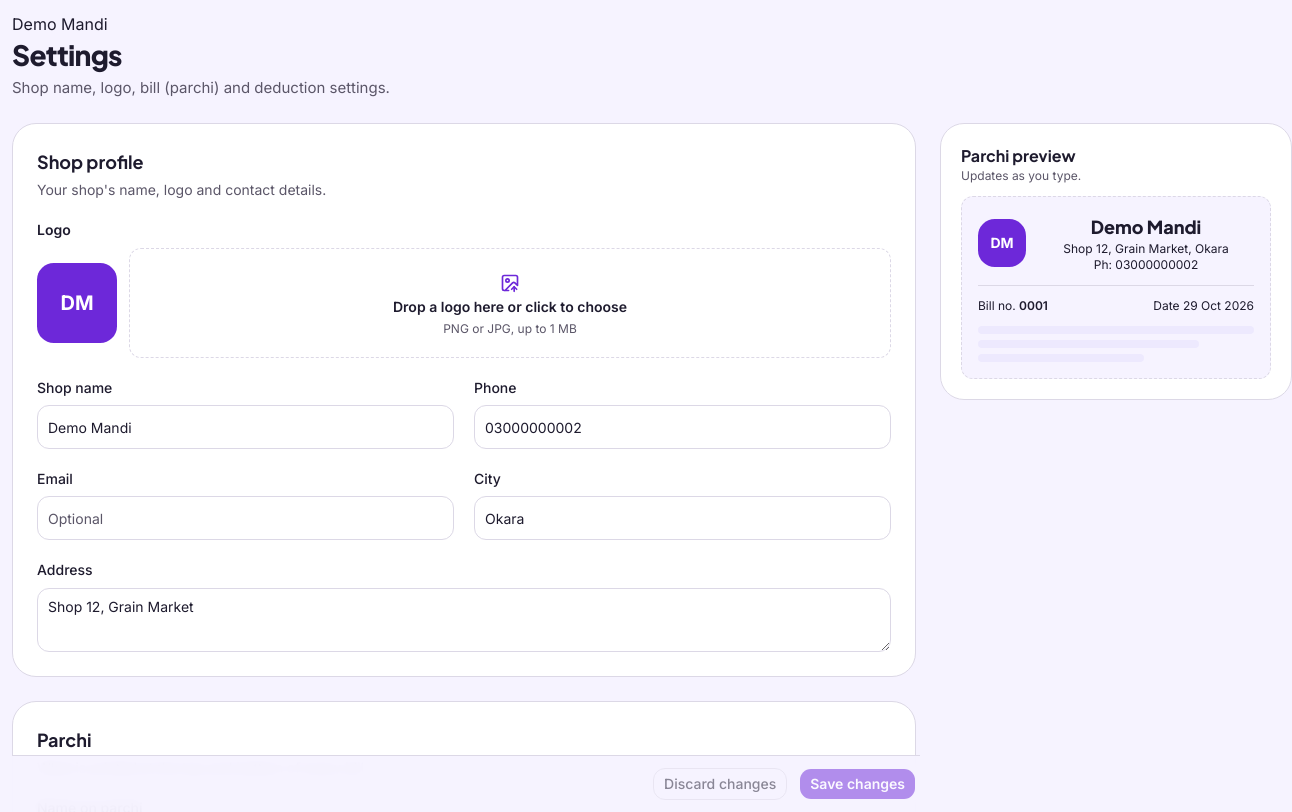
SettingsForm › saving › refetches /auth/me after a save, so the header shows the new name
The image size is (1292, 812).
Check: the text with test id "header-shop" reads "Demo Mandi", box x1=12 y1=14 x2=108 y2=34
Replace the text in the field labelled "Shop name" with "Aslam & Sons". click: [246, 427]
box: x1=37 y1=405 x2=454 y2=449
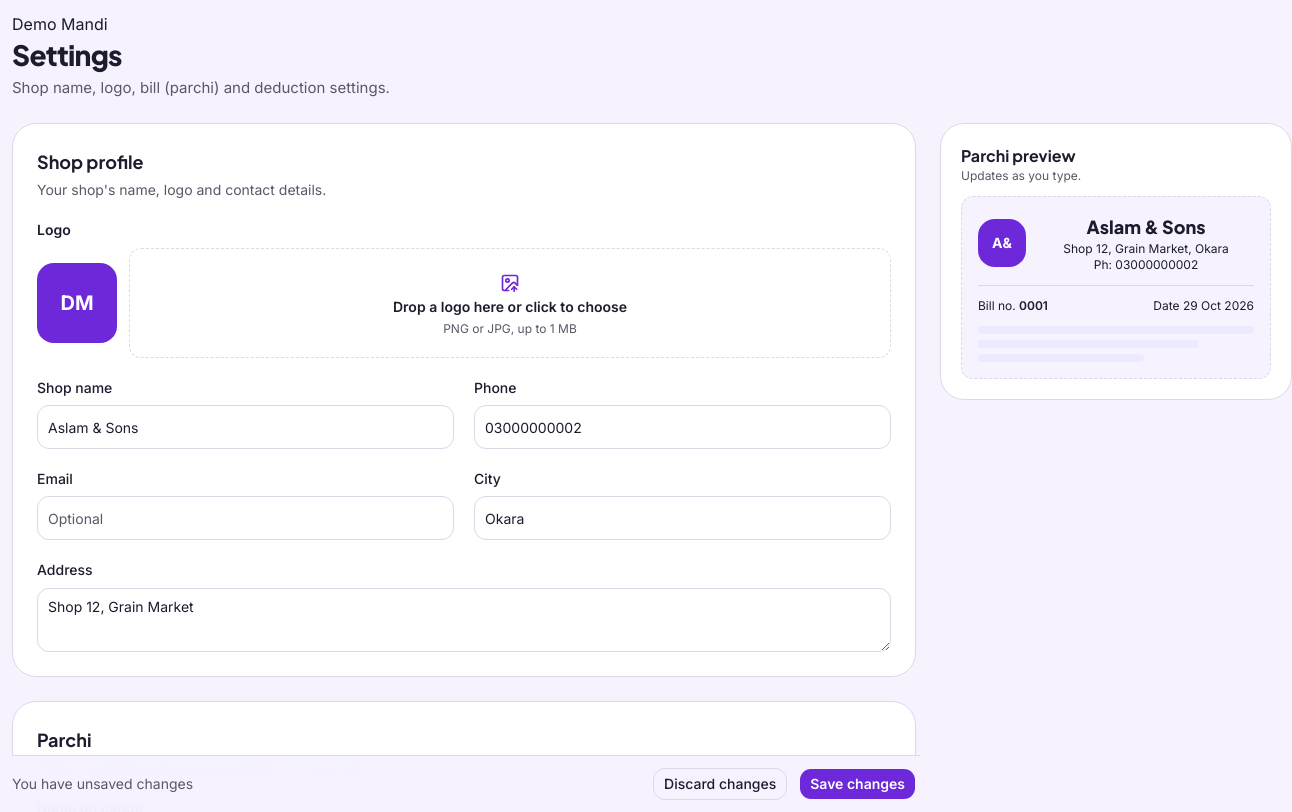
Click the button "Save changes". click: [858, 784]
box: x1=799 y1=768 x2=916 y2=800
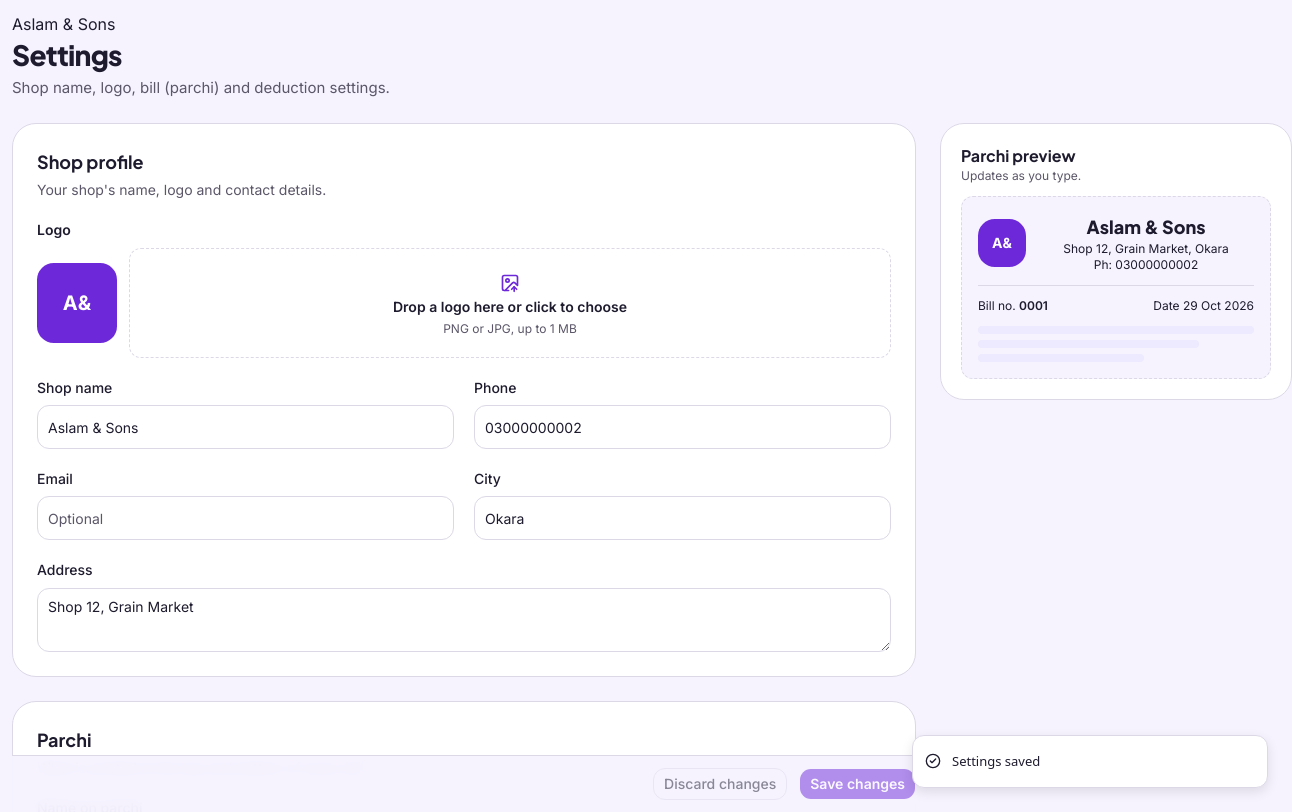
Check: the text "Settings saved" is shown, box x1=952 y1=752 x2=1040 y2=771
Check: the text with test id "header-shop" reads "Aslam & Sons", box x1=12 y1=14 x2=115 y2=34
